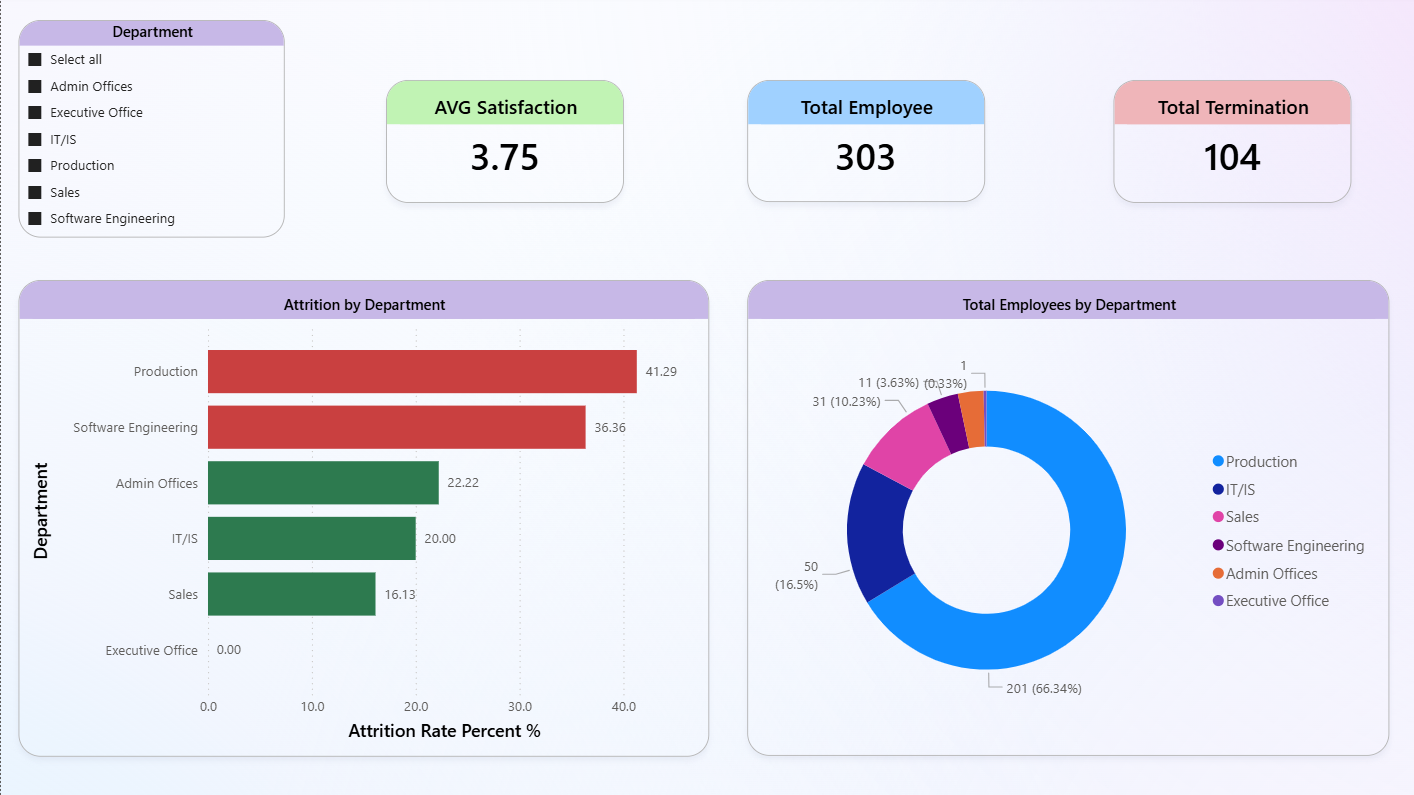

This screenshot's page, from the dashboard's own definition file:
{"tool":"powerbi","page":{"name":"Executive Workforce Overview","canvas":[1280,720],"ordinal":0},"visuals":[{"type":"card","title":"Total Termination","fields":{"Values":["Sum(project_2_hr_analytics attrition_by_dept.Total_Terminated)"]},"box":[1006.1,72.2,215.4,110.8],"z":0},{"type":"card","title":"AVG Satisfaction ","fields":{"Values":["Avg(project_2_hr_analytics attrition_by_dept.Avg_Satisfaction_Score)"]},"box":[348.6,72.2,215.4,110.8],"z":1000},{"type":"card","title":"Total Employee","fields":{"Values":["Sum(project_2_hr_analytics attrition_by_dept.Total_Employees)"]},"box":[675.1,72.1,214.8,110.5],"z":2000},{"type":"clusteredBarChart","title":"Attrition by Department","fields":{"Category":["project_2_hr_analytics attrition_by_dept.Department"],"Y":["Sum(project_2_hr_analytics attrition_by_dept.Attrition_Rate_Percent)"]},"box":[15.3,253.2,624.5,431.2],"z":3000},{"type":"donutChart","title":"Total Employees by Department","fields":{"Category":["project_2_hr_analytics attrition_by_dept.Department"],"Y":["Sum(project_2_hr_analytics attrition_by_dept.Total_Employees)"]},"box":[675,253.3,581.2,430.8],"z":4000},{"type":"slicer","title":"Department ","fields":{"Values":["project_2_hr_analytics dim_department.Department"]},"box":[15.6,18,240.9,196.6],"z":5000}]}

Visuals, with their boxes in screenshot pixels (x1, y1, x2, y2), scaled from the page's 1280x720 canvas onto the 1414x795 screenshot:
"Total Termination" card: region(1111, 80, 1349, 202)
"AVG Satisfaction " card: region(385, 80, 623, 202)
"Total Employee" card: region(746, 80, 983, 202)
"Attrition by Department" clusteredBarChart: region(17, 280, 707, 756)
"Total Employees by Department" donutChart: region(746, 280, 1388, 755)
"Department " slicer: region(17, 20, 283, 237)
